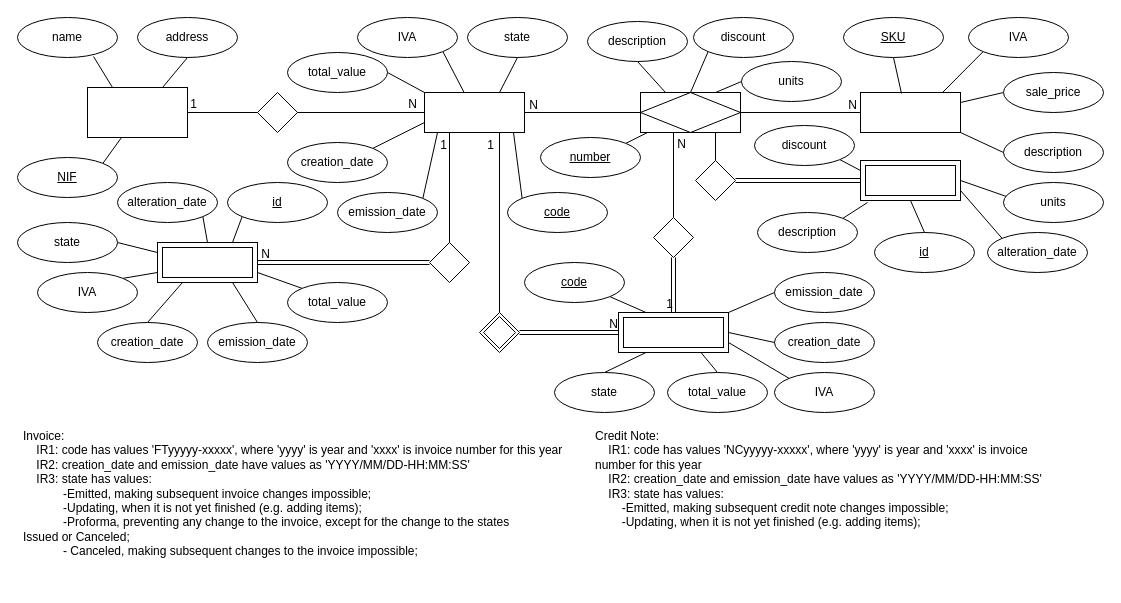
The diagram is 1121 pixels wide and 603 high, and some of its shapes have lost their labels. Each missing label, with the centre of its shape:
"Contributor" goes at (137,112).
"Credit Note" goes at (673,332).
"Invoice" goes at (474,112).
"Invoice History" goes at (207,262).
"Item" goes at (690,112).
"Item History" goes at (910,180).
"Product" goes at (910,112).
